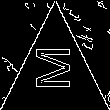M_W: (33, 51, 77, 96)
